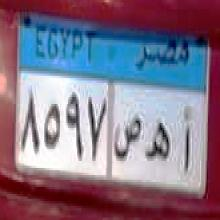5: (20, 89, 41, 158), (42, 101, 62, 154)
7: (85, 96, 107, 161)
9: (65, 91, 84, 159)
alif: (182, 100, 194, 179)
haa: (144, 116, 172, 173)
saad: (114, 114, 143, 164)
